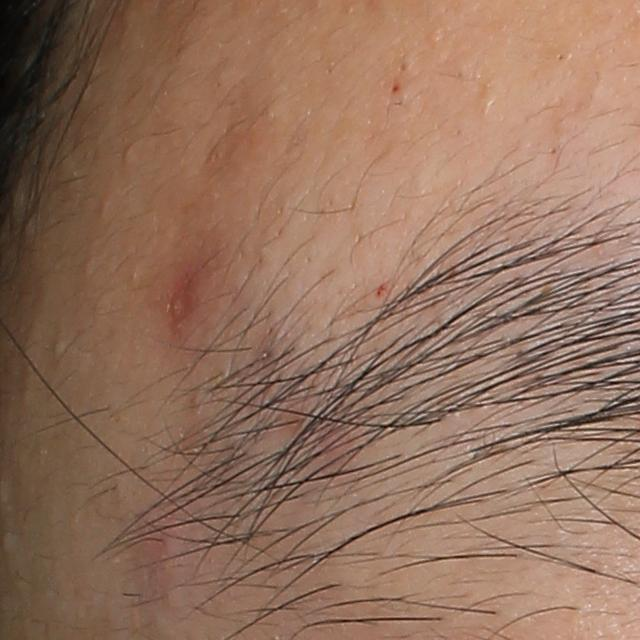comedo: (52, 339, 66, 360)
